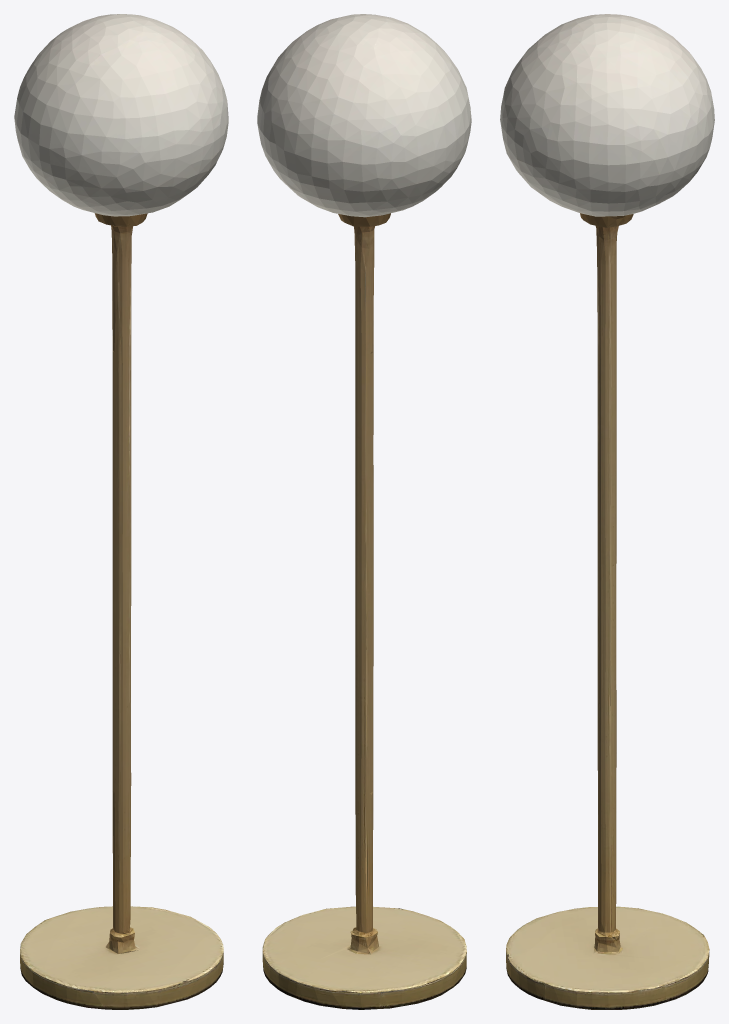
Rendered from floor-lamp.glb.
3 views of the same model, side by side, from view 1: azimuth 30°, elevation 25°; view 2: azimuth 150°, elevation 25°; view 3: azimuth 270°, elevation 25° (orthographic).
Parts seen in each view (by area): view 1: geometry_0; view 2: geometry_0; view 3: geometry_0.
Boxes of the visible parts, x1,y1,x2,y2 form: geometry_0: [14, 14, 228, 1009]; geometry_0: [257, 14, 471, 1009]; geometry_0: [500, 14, 714, 1009].
Bounding box in the file's own units: 0.2061 × 1 × 0.2061.
Materials: 1 (1 with a texture image).
